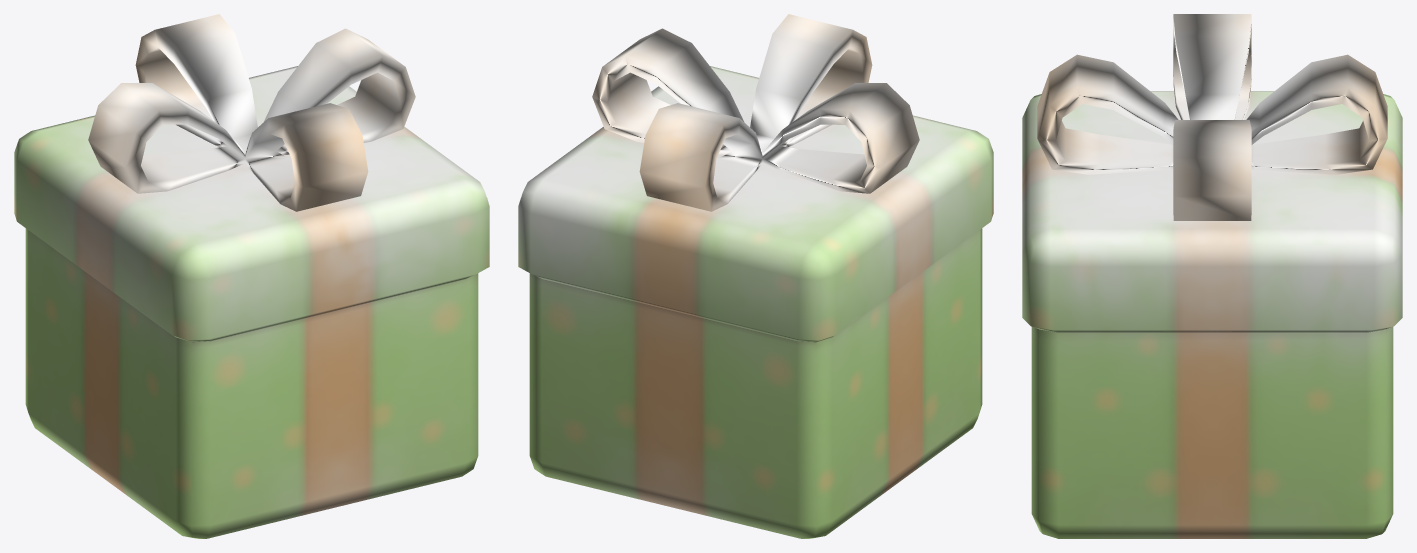
File: Gift_B.fbx
3 renders of one model, left to right at view 1: azimuth 30°, elevation 25°; view 2: azimuth 150°, elevation 25°; view 3: azimuth 270°, elevation 25°, orthographic. The views are drawn at different scales.
Visible parts, largest first — view 1: GiftB; view 2: GiftB; view 3: GiftB.
Boxes of the visible parts, x1,y1,x2,y2 form: GiftB: (14,14,489,538); GiftB: (518,14,993,538); GiftB: (1022,14,1402,538).
Bounding box in the file's own units: 46.83 × 54.58 × 46.83.
1 material, 1 textured.
